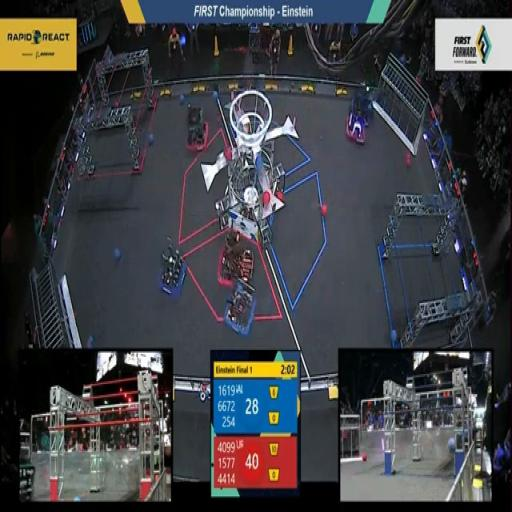robot: (208, 232, 262, 287), (220, 280, 262, 346), (155, 232, 190, 301), (350, 70, 384, 131), (180, 99, 212, 158), (343, 107, 368, 158)
